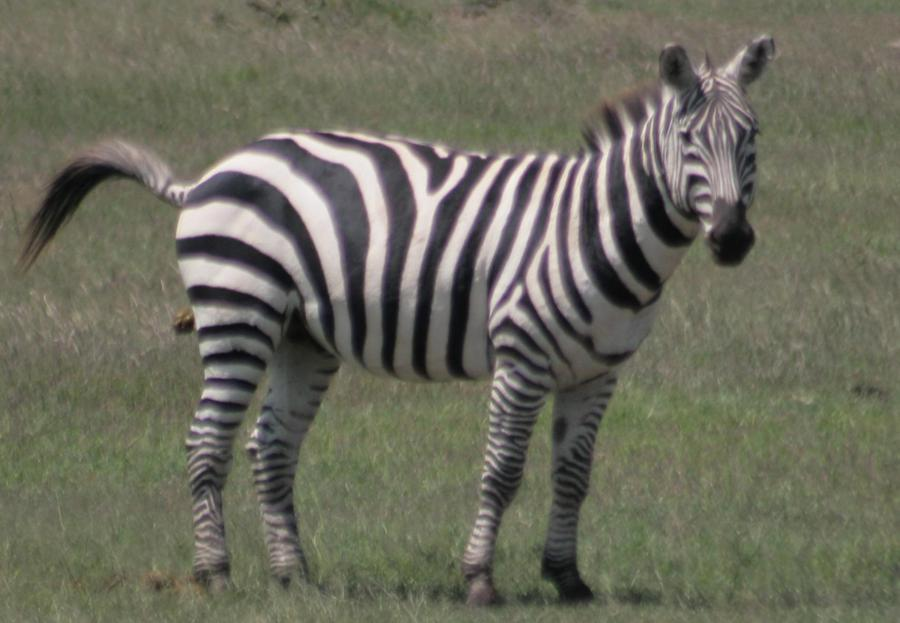zebra_plains: (166, 103, 605, 429)
